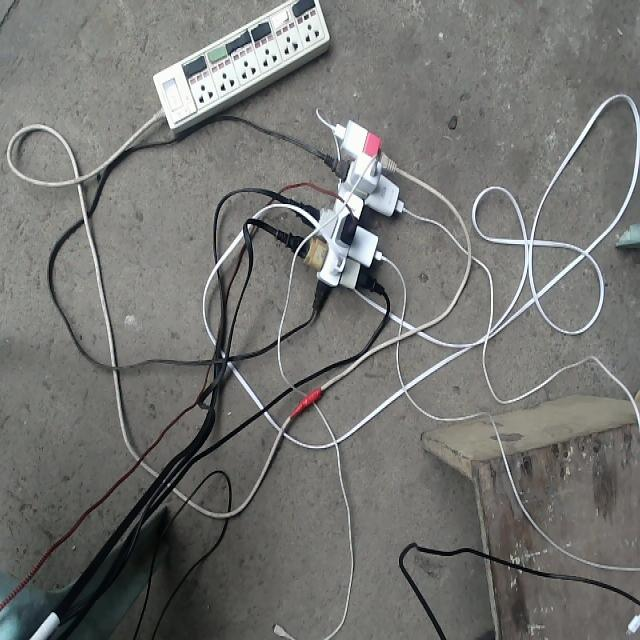-: (273, 118, 405, 310)
